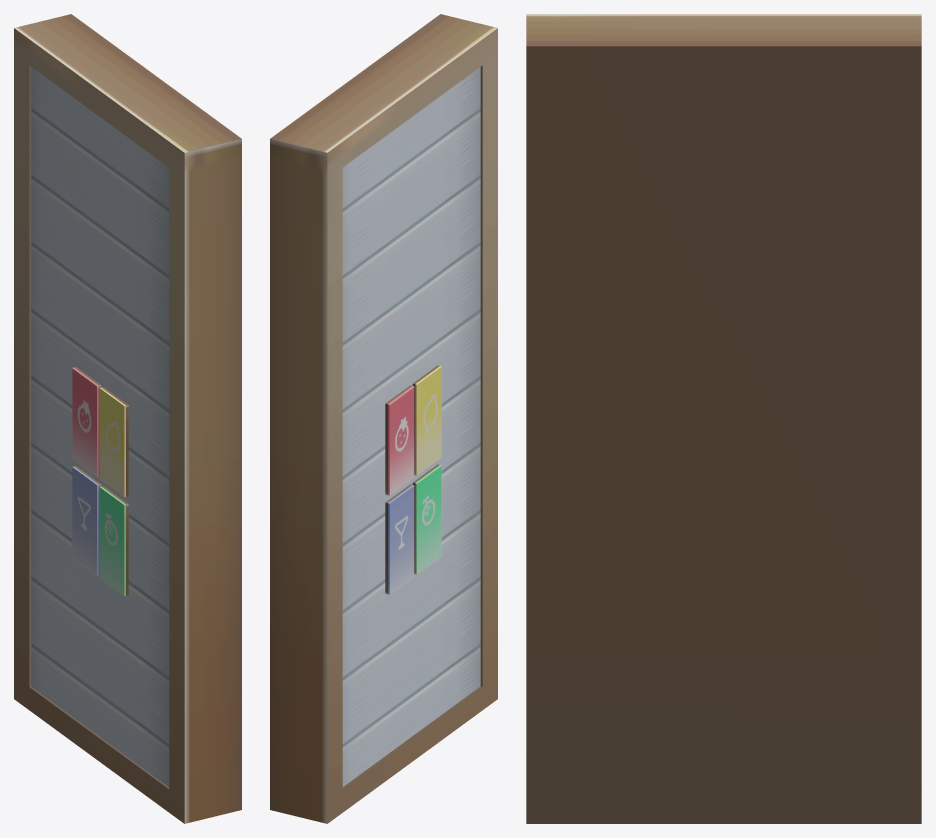
The model's file is my_seahouse_01_wall_acc.glb.
The picture shows the model from 3 angles, left to right: view 1: azimuth 30°, elevation 25°; view 2: azimuth 150°, elevation 25°; view 3: azimuth 270°, elevation 25°; orthographic projection. The views are drawn at different scales.
Parts seen in each view (by area): view 1: my_seahouse_01_wall_acc; view 2: my_seahouse_01_wall_acc; view 3: my_seahouse_01_wall_acc.
Boxes of the visible parts, x1=… form: my_seahouse_01_wall_acc: x1=14, y1=14, x2=241, y2=823; my_seahouse_01_wall_acc: x1=270, y1=14, x2=497, y2=823; my_seahouse_01_wall_acc: x1=526, y1=14, x2=921, y2=823.
Bounding box in the file's own units: 0.00418 × 0.0452 × 0.0208.
Materials: 1 (1 with a texture image).
